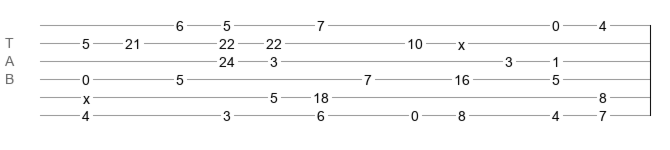0: (82, 72, 90, 82), (411, 108, 419, 118), (552, 18, 560, 28)
1: (552, 54, 560, 64)
10: (407, 36, 423, 46)
16: (454, 72, 470, 82)
18: (313, 90, 329, 100)
21: (125, 36, 141, 46)
22: (219, 36, 235, 46), (266, 36, 282, 46)
24: (219, 54, 235, 64)
3: (223, 108, 231, 118), (270, 54, 278, 64), (505, 54, 513, 64)
4: (82, 108, 90, 118), (552, 108, 560, 118), (599, 18, 607, 28)
5: (82, 36, 90, 46), (176, 72, 184, 82), (223, 18, 231, 28), (270, 90, 278, 100), (552, 72, 560, 82)
6: (176, 18, 184, 28), (317, 108, 325, 118)
7: (317, 18, 325, 28), (364, 72, 372, 82), (599, 108, 607, 118)
8: (458, 108, 466, 118), (599, 90, 607, 100)
x: (83, 91, 90, 99), (458, 37, 465, 45)
